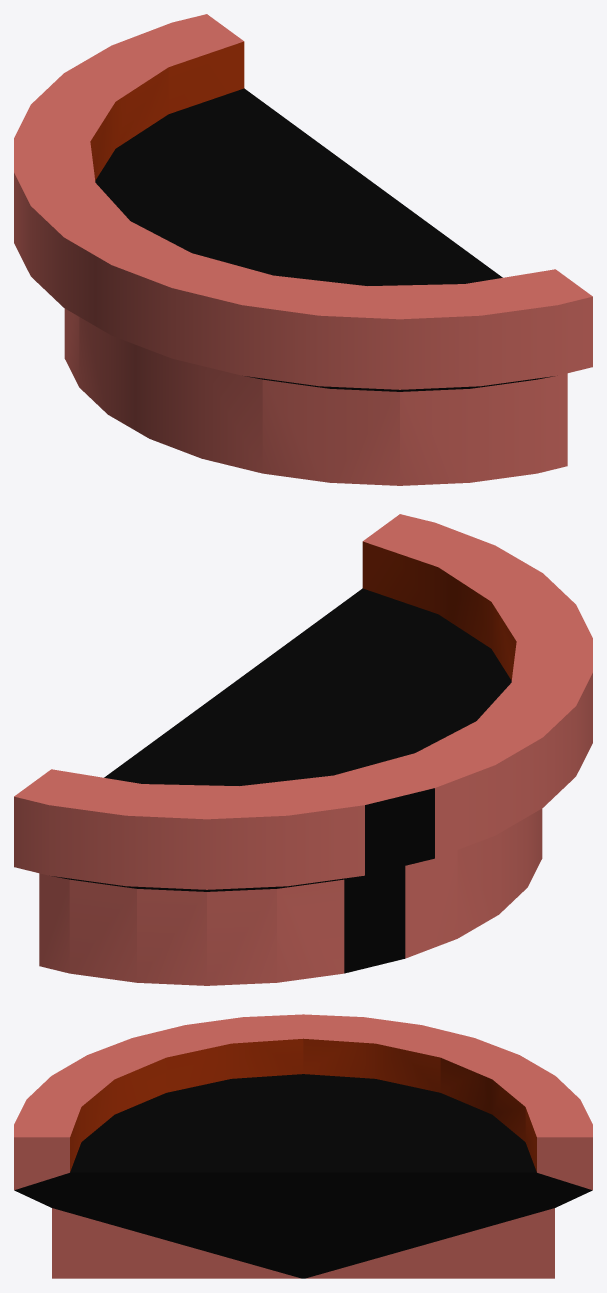
File: br-m-pipe-orangeB.fbx
3 views of the same model, one above another, from view 1: azimuth 30°, elevation 25°; view 2: azimuth 150°, elevation 25°; view 3: azimuth 270°, elevation 25° (orthographic). The views are drawn at different scales.
Parts seen in each view (by area): view 1: pipeB_orange_m; view 2: pipeB_orange_m; view 3: pipeB_orange_m.
Boxes of the visible parts, <box> form: pipeB_orange_m: <box>14,14,592,485</box>; pipeB_orange_m: <box>14,514,592,985</box>; pipeB_orange_m: <box>14,1014,592,1278</box>.
Size of the model in its own units: 93.5 by 50 by 186.
